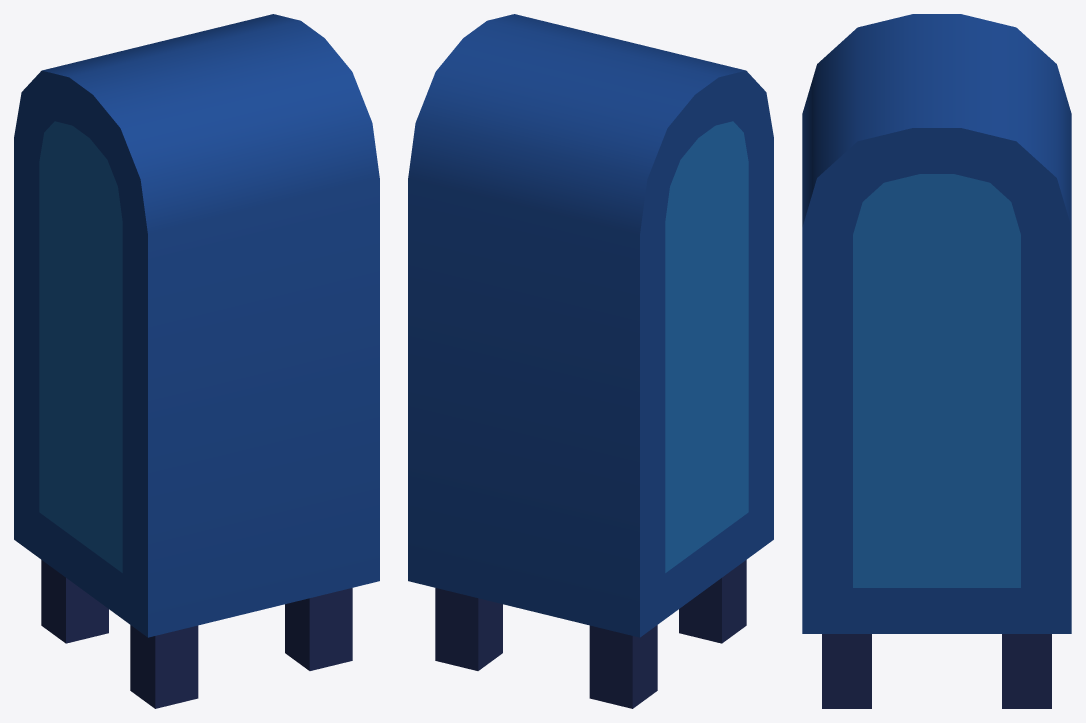
File: MailBox4_1.fbx
3 renders of one model, left to right at view 1: azimuth 30°, elevation 25°; view 2: azimuth 150°, elevation 25°; view 3: azimuth 270°, elevation 25°, orthographic.
Parts seen in each view (by area): view 1: Plane.302; view 2: Plane.302; view 3: Plane.302.
Boxes of the visible parts, x1,y1,x2,y2 form: Plane.302: (14,14,379,708); Plane.302: (408,14,773,708); Plane.302: (802,14,1071,708).
Bounding box in the file's own units: 50 × 121 × 50.
